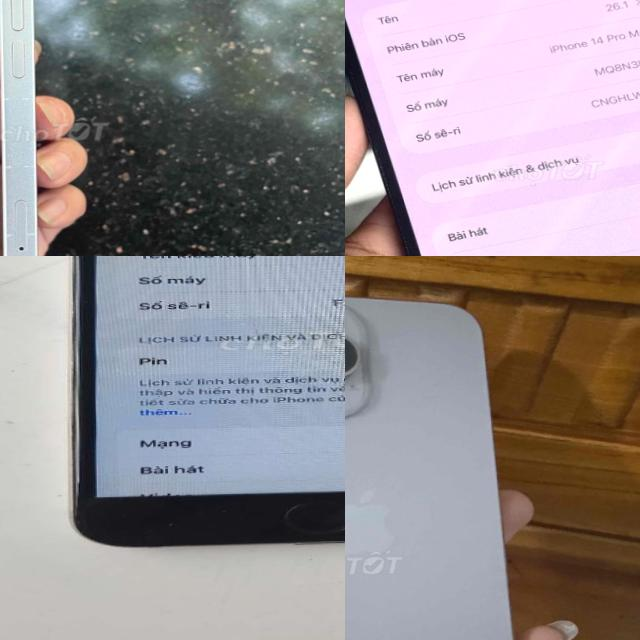gen_12_13: (0, 0, 49, 256)
gen_14: (345, 0, 640, 256)
gen_15: (345, 258, 527, 640)
gen_6: (47, 256, 345, 556)
